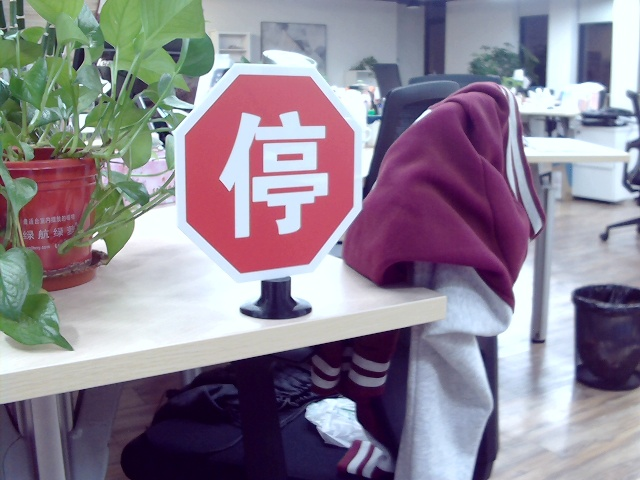stop: (216, 107, 328, 234)
